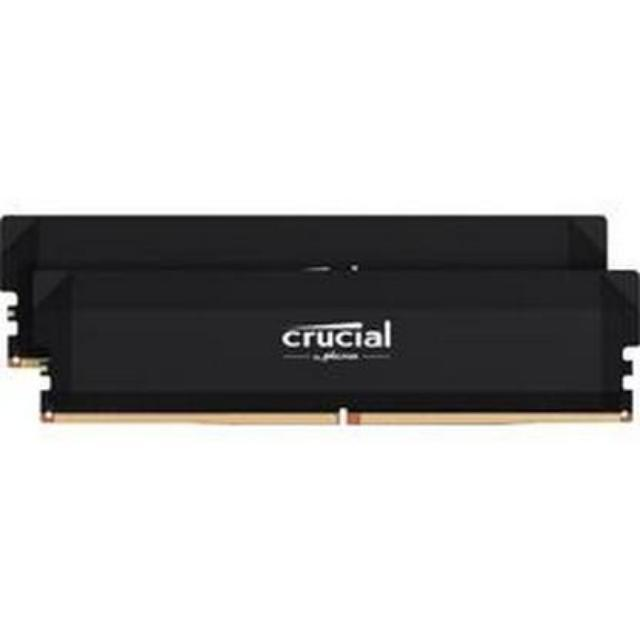RAM: (3, 208, 640, 434)
